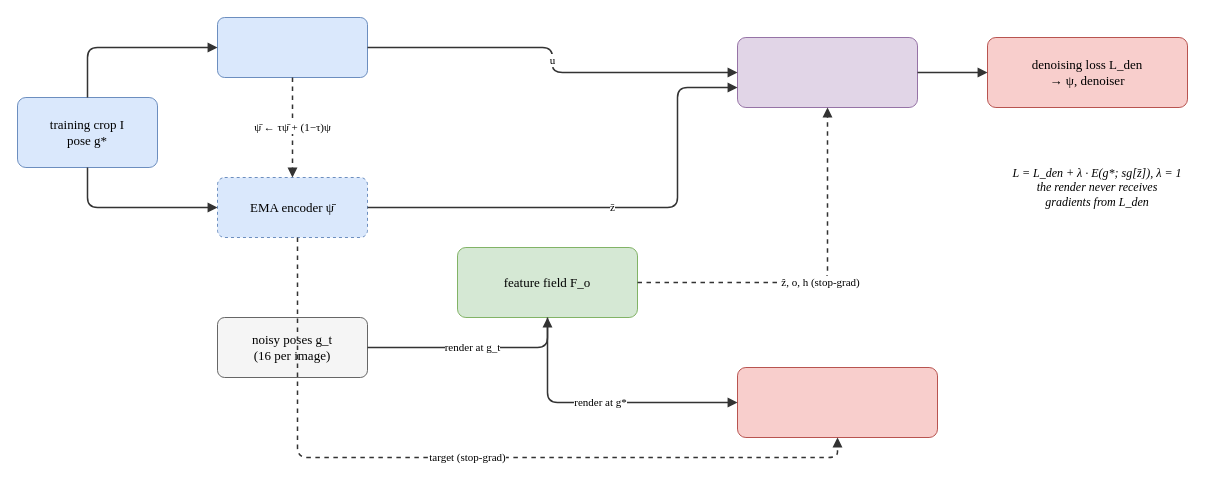
Image size: 1225x484. Some labels were removed from this diagram. Each missing label, with the centre of its shape:
"denoiser" belongs at pixel 827 72.
"encoder ψ (trained)" belongs at pixel 292 47.
"field loss E(g*; sg[z̄]), weights w → field" belongs at pixel 837 402.
